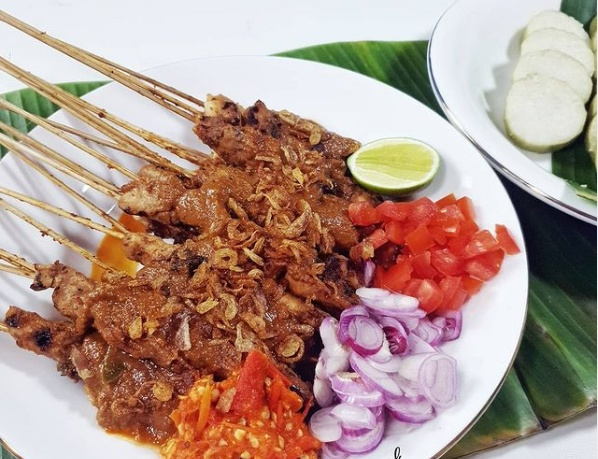sate_madura: (5, 14, 380, 412)
